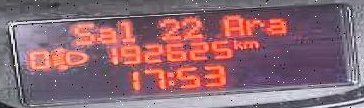0: (25, 48, 49, 69)
1: (126, 68, 141, 92), (107, 46, 119, 66)
2: (155, 18, 180, 40), (181, 16, 205, 38), (187, 40, 208, 60), (141, 43, 162, 63)
3: (201, 63, 223, 87)
5: (174, 66, 201, 88), (210, 39, 230, 59)
6: (164, 41, 188, 61)
7: (143, 67, 163, 90)
9: (119, 44, 139, 64)
X: (71, 21, 95, 44), (222, 14, 244, 35), (117, 19, 136, 42), (265, 17, 285, 35), (95, 25, 115, 42), (244, 17, 261, 35), (163, 69, 174, 86), (241, 39, 258, 48), (230, 37, 241, 48)
